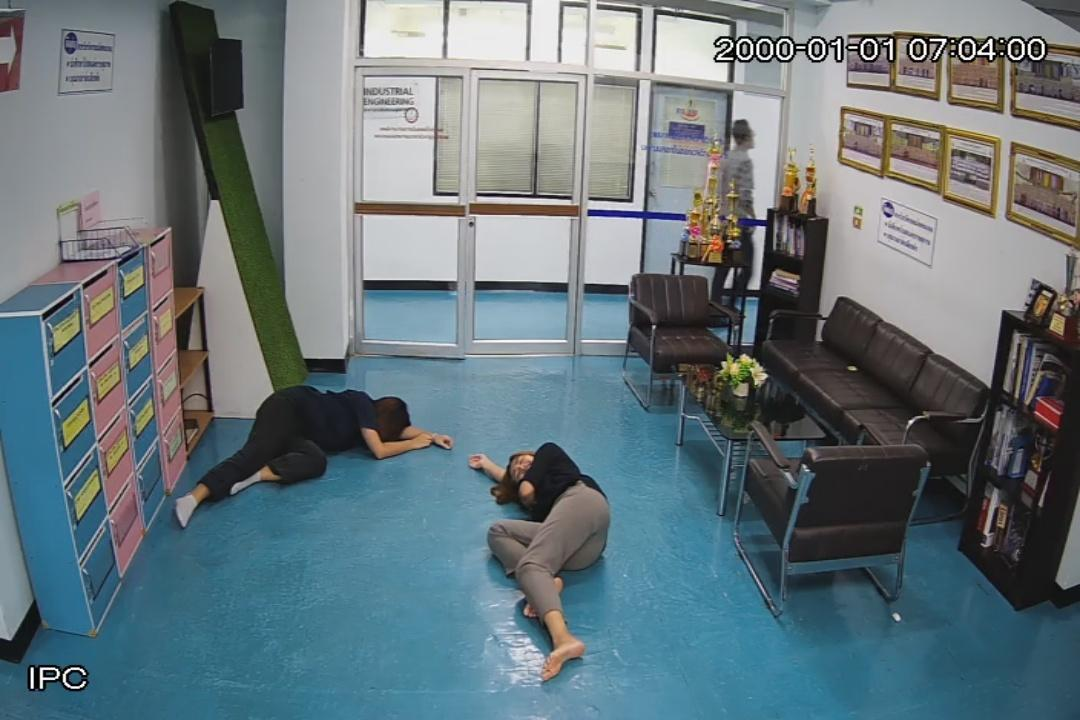fall: (168, 370, 430, 532), (464, 432, 618, 702)
